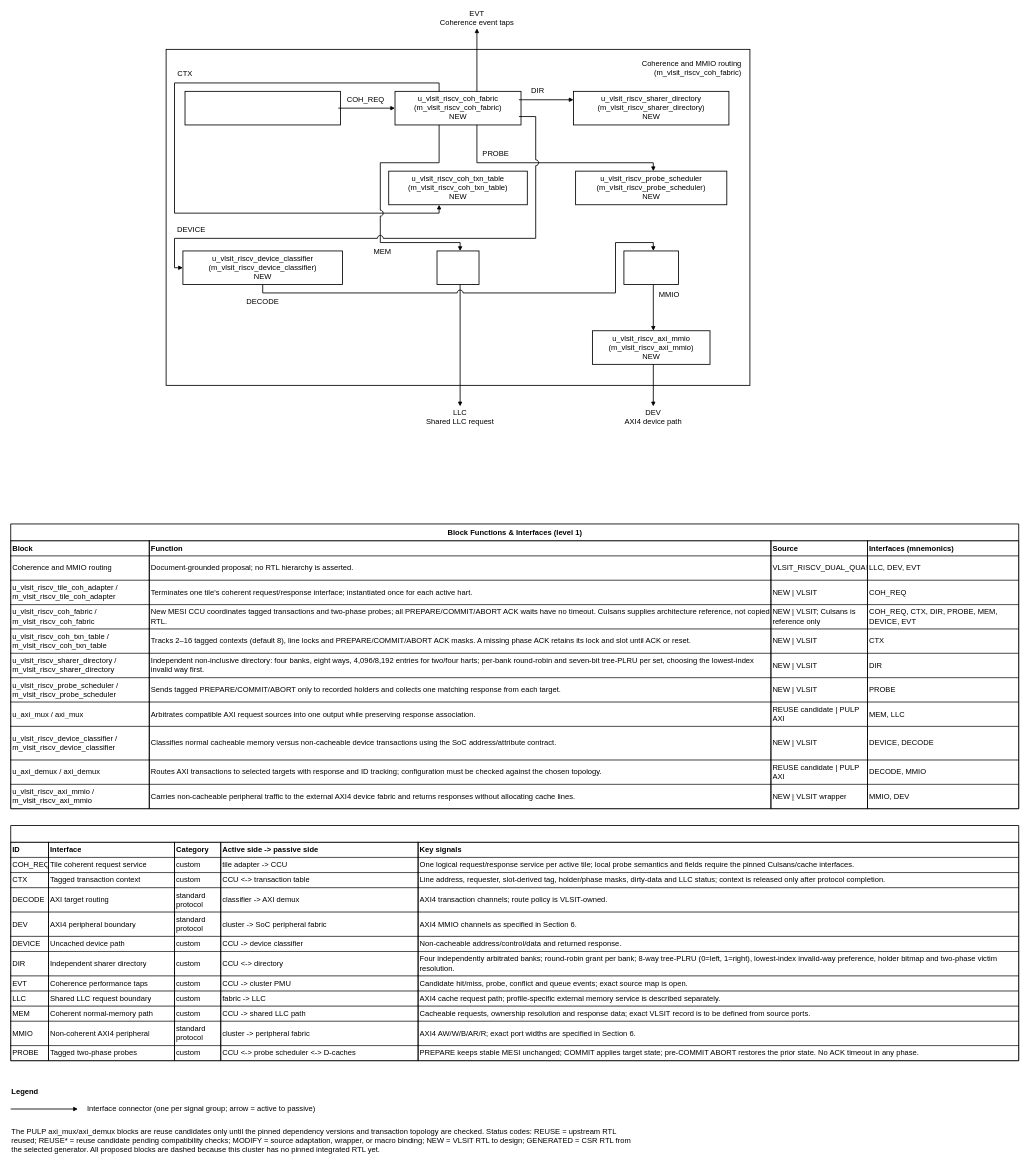
The diagram is 1026 pixels wide and 1166 high, and some of its shapes have lost their labels. Each missing label, with the box of its shape:
Interface Table (level 1): (10, 825, 1019, 1061)
u_axi_demux (axi_demux) REUSE*: (623, 250, 679, 285)
u_axi_mux (axi_mux) REUSE*: (436, 250, 479, 285)
u_vlsit_riscv_tile_coh_adapter (m_vlsit_riscv_tile_coh_adapter) NEW: (184, 91, 341, 125)
